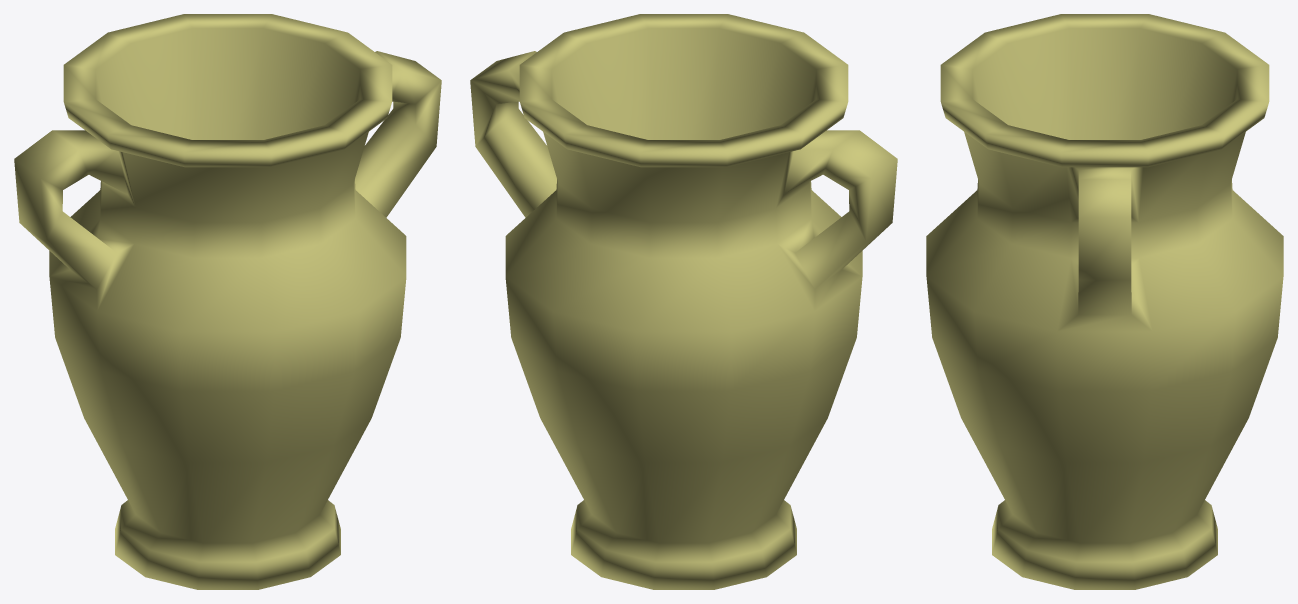
Rendered from Mod_Vase_LO_V2_JT.fbx.
3 renders of one model, left to right at view 1: azimuth 30°, elevation 25°; view 2: azimuth 150°, elevation 25°; view 3: azimuth 270°, elevation 25°, orthographic.
Visible parts, largest first — view 1: Vase_LO_V2; view 2: Vase_LO_V2; view 3: Vase_LO_V2.
Boxes of the visible parts, x1,y1,x2,y2 form: Vase_LO_V2: [14, 14, 441, 589]; Vase_LO_V2: [470, 14, 897, 589]; Vase_LO_V2: [926, 14, 1283, 589].
Bounding box in the file's own units: 39.23 × 42.87 × 30.23.
